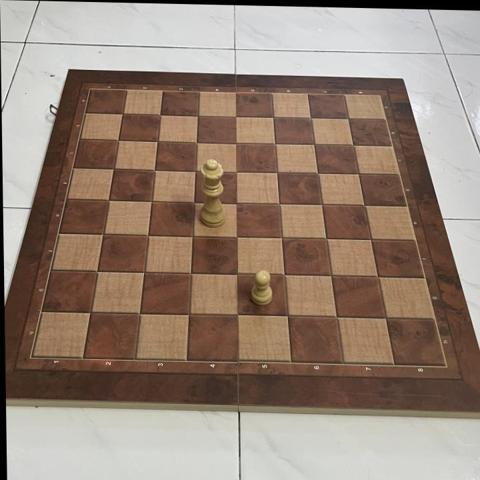xcorner: (183, 227, 201, 245), (138, 226, 156, 244), (93, 225, 111, 243), (369, 269, 387, 287), (278, 308, 296, 326), (341, 110, 358, 128), (303, 109, 320, 127), (265, 108, 282, 126), (227, 107, 244, 125), (189, 106, 206, 124), (345, 137, 363, 154), (266, 135, 284, 152), (187, 133, 205, 150), (108, 131, 126, 148), (268, 164, 286, 181), (227, 163, 245, 180), (356, 198, 374, 215), (314, 196, 331, 214), (271, 195, 288, 213), (228, 194, 245, 212), (185, 193, 202, 211), (323, 268, 340, 286), (229, 307, 246, 325), (130, 305, 148, 322), (151, 106, 168, 123), (113, 105, 130, 122), (306, 136, 323, 153), (227, 134, 244, 151), (148, 132, 165, 149), (351, 166, 368, 183), (310, 165, 327, 182), (186, 162, 203, 179), (145, 161, 162, 178), (104, 160, 121, 177), (142, 192, 159, 209), (99, 191, 116, 208), (363, 232, 380, 249), (318, 231, 335, 248), (273, 230, 290, 247), (228, 229, 245, 246), (276, 267, 293, 284), (229, 266, 246, 283), (182, 265, 199, 282), (135, 264, 152, 281), (88, 263, 105, 280), (377, 311, 394, 328), (328, 310, 345, 327), (180, 306, 197, 323), (81, 304, 98, 321)
